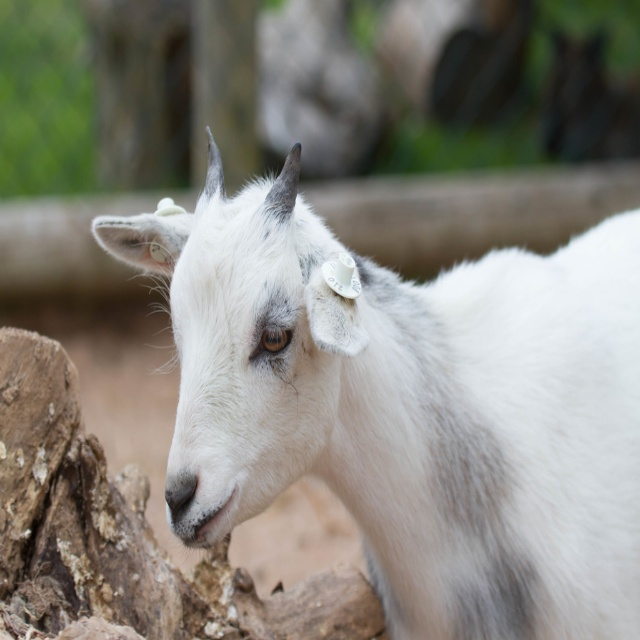Goat: (91, 126, 640, 639)
